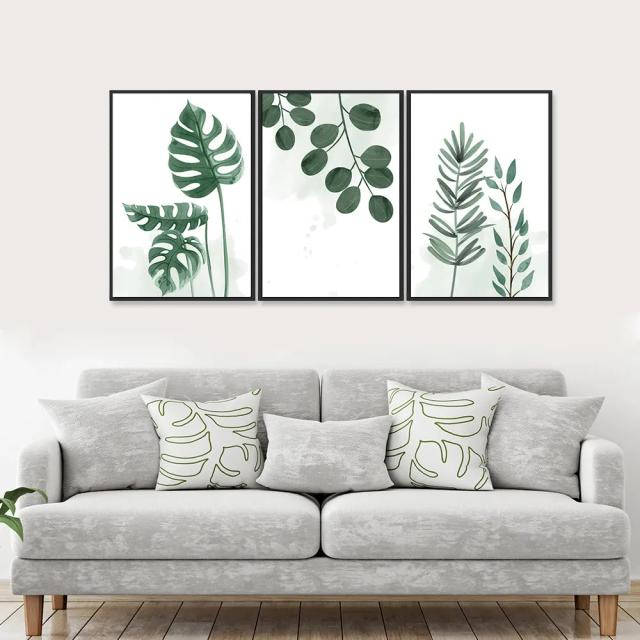painting: (108, 90, 252, 300), (259, 90, 403, 300), (407, 90, 551, 300)
